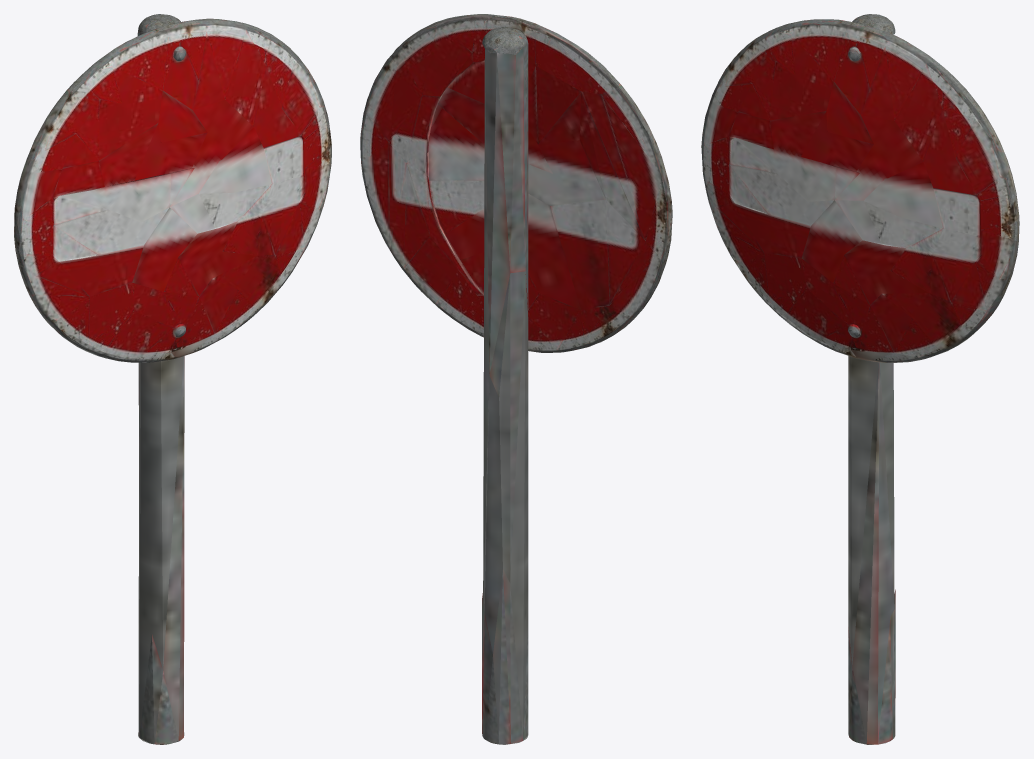
The model's file is Sign_No_Entry_1500.glb.
3 renders of one model, left to right at view 1: azimuth 30°, elevation 25°; view 2: azimuth 150°, elevation 25°; view 3: azimuth 330°, elevation 25°, orthographic.
Visible parts, largest first — view 1: output_unwrapped; view 2: output_unwrapped; view 3: output_unwrapped.
Part boxes in pixels (<box>): output_unwrapped: <box>14,14,331,744</box>; output_unwrapped: <box>360,14,672,744</box>; output_unwrapped: <box>701,14,1019,744</box>.
Bounding box in the file's own units: 1.15 × 2.5 × 0.2194.
1 material, 1 textured.
